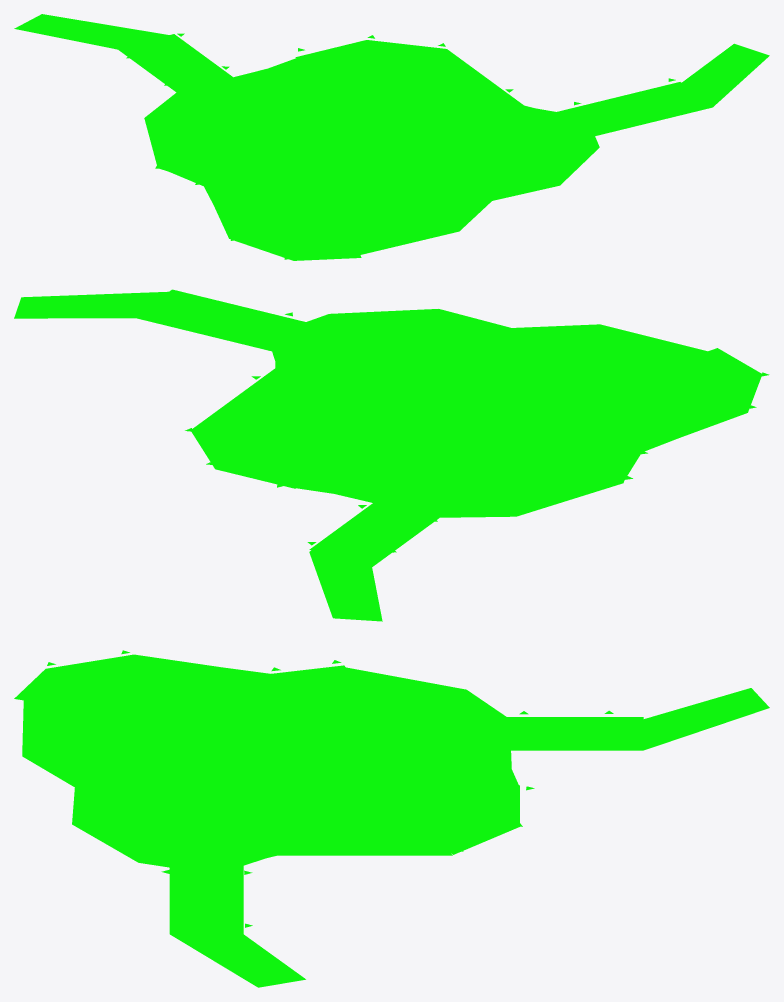
Rendered from s02b_lc2-floor.glb.
The picture shows the model from 3 angles, top to bottom: view 1: azimuth 30°, elevation 25°; view 2: azimuth 150°, elevation 25°; view 3: azimuth 270°, elevation 25°; orthographic projection. The views are drawn at different scales.
Visible parts, largest first — view 1: collision_floor-colonly; view 2: collision_floor-colonly; view 3: collision_floor-colonly.
Part boxes in pixels (x1,y1,x2,y2): collision_floor-colonly: [14, 14, 769, 260]; collision_floor-colonly: [14, 289, 769, 621]; collision_floor-colonly: [14, 650, 769, 987].
Size of the model in its own units: 63.82 by 0.416 by 61.26.
